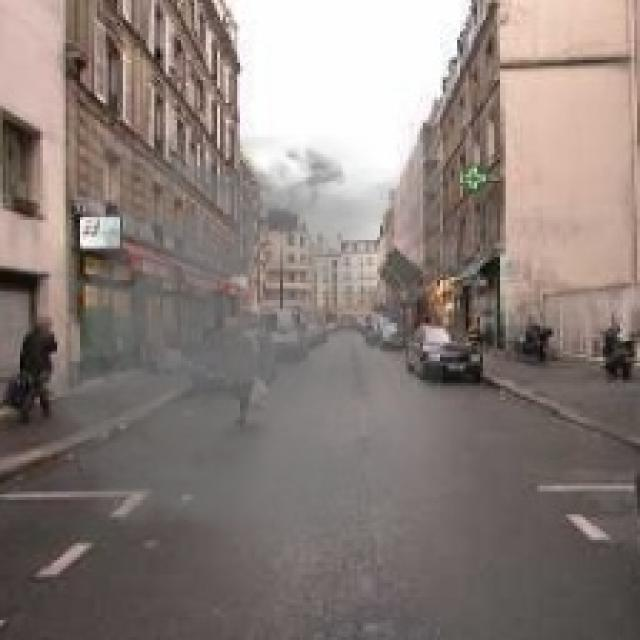smoke: (23, 134, 443, 552)
